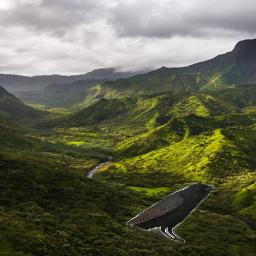Crow: (125, 182, 218, 244)
